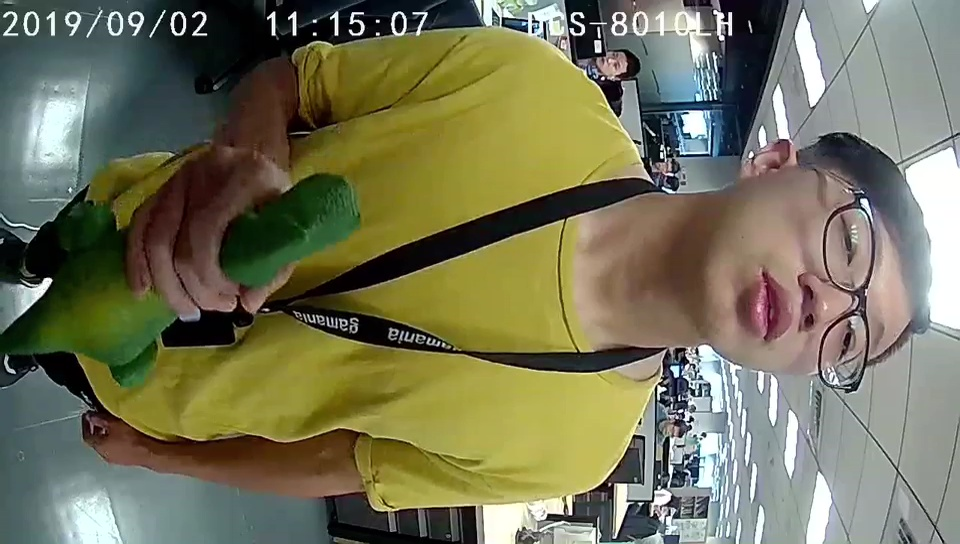rex: (67, 174, 361, 388)
